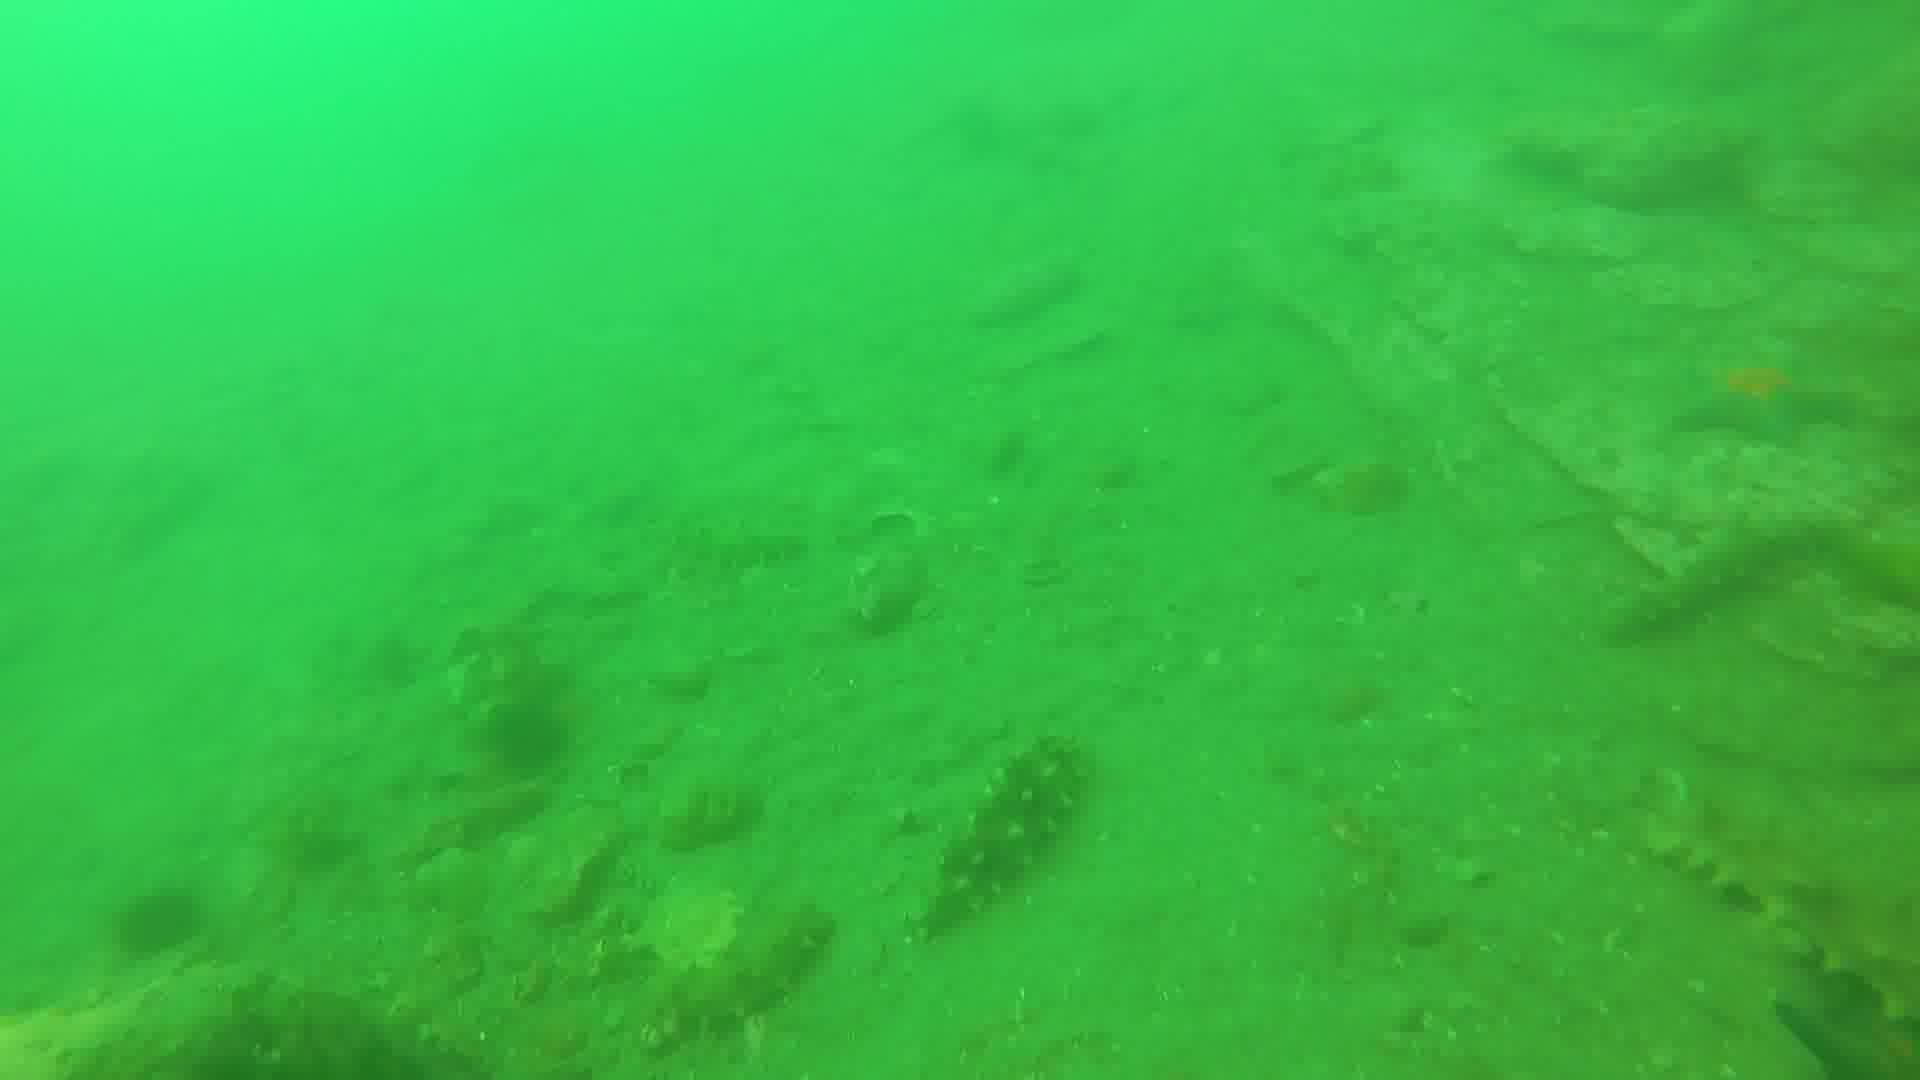echinus: (117, 881, 227, 951), (498, 696, 576, 773)
holothurian: (1660, 786, 1920, 1017), (1596, 495, 1866, 651), (914, 732, 1083, 936), (638, 899, 839, 1042)
starfish: (1673, 357, 1859, 452)
